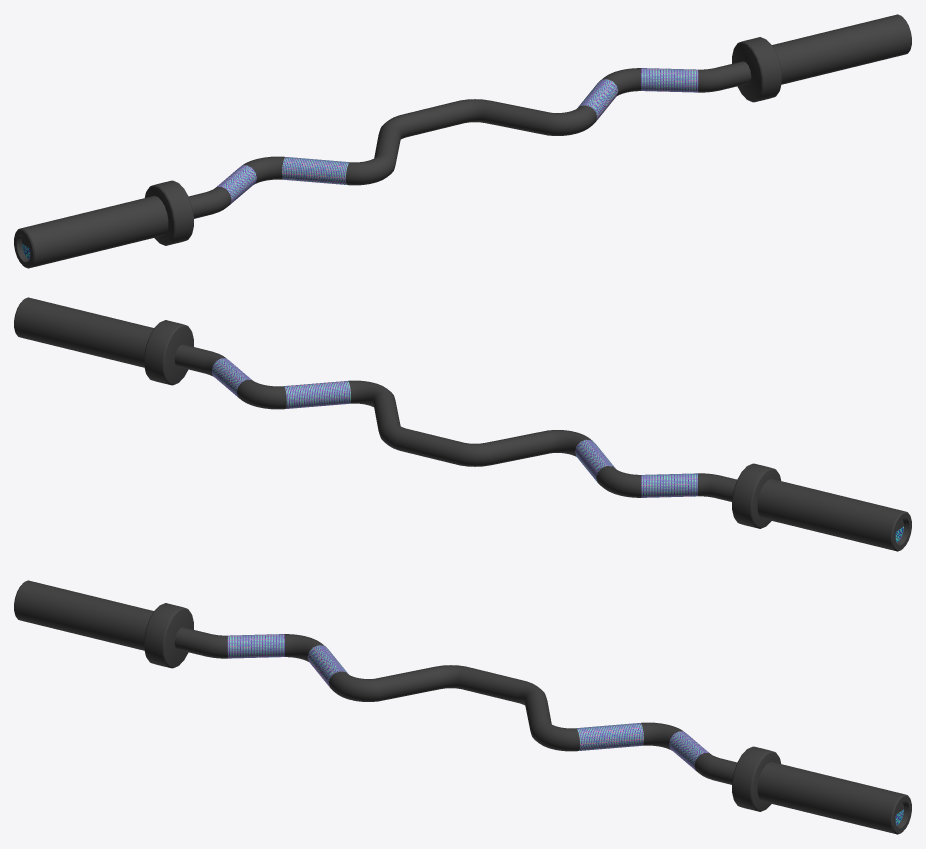
File: Barbell_Bar_6.FBX
3 renders of one model, top to bottom at view 1: azimuth 30°, elevation 25°; view 2: azimuth 150°, elevation 25°; view 3: azimuth 330°, elevation 25°, orthographic.
Visible parts, largest first — view 1: Barbell_Bar_6; view 2: Barbell_Bar_6; view 3: Barbell_Bar_6.
Part boxes in pixels (x1,y1,x2,y2): Barbell_Bar_6: (14,14,911,268); Barbell_Bar_6: (14,297,911,551); Barbell_Bar_6: (14,580,911,834).
Bounding box in the file's own units: 1.24 × 0.1265 × 0.0766.
